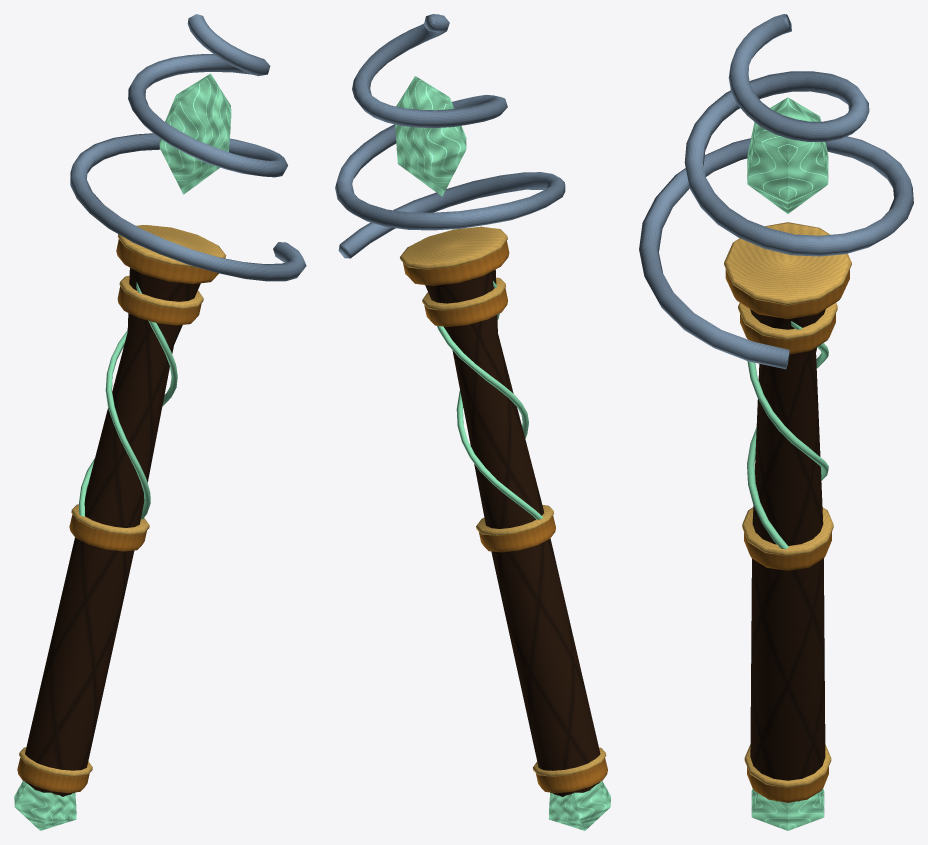
Rendered from tornado_rod.glb.
The picture shows the model from 3 angles, left to right: view 1: azimuth 30°, elevation 25°; view 2: azimuth 150°, elevation 25°; view 3: azimuth 270°, elevation 25°; orthographic projection. The views are drawn at different scales.
Parts seen in each view (by area): view 1: Leather wrapped grip, Open rising cyclone crown, Engraved metal collar (×4), Wind heart, Polished collar edge (×4), Spiral elemental shaft inlay (×2), Inset elemental pommel; view 2: Leather wrapped grip, Open rising cyclone crown, Engraved metal collar (×4), Polished collar edge (×4), Wind heart, Spiral elemental shaft inlay (×2), Inset elemental pommel; view 3: Leather wrapped grip, Open rising cyclone crown, Polished collar edge (×4), Wind heart, Engraved metal collar (×4), Spiral elemental shaft inlay (×2), Inset elemental pommel.
Boxes of the visible parts, <box> form: Leather wrapped grip: <box>25,268,200,796</box>; Open rising cyclone crown: <box>70,14,306,281</box>; Engraved metal collar (×4): <box>17,239,218,793</box>; Wind heart: <box>159,73,231,194</box>; Polished collar edge (×4): <box>19,225,226,776</box>; Spiral elemental shaft inlay (×2): <box>79,282,177,519</box>; Inset elemental pommel: <box>14,781,76,830</box>; Leather wrapped grip: <box>425,269,600,796</box>; Open rising cyclone crown: <box>335,14,565,258</box>; Engraved metal collar (×4): <box>403,241,607,793</box>; Polished collar edge (×4): <box>400,226,606,776</box>; Wind heart: <box>395,76,466,196</box>; Spiral elemental shaft inlay (×2): <box>437,281,543,519</box>; Inset elemental pommel: <box>548,781,610,830</box>; Leather wrapped grip: <box>750,309,825,801</box>; Open rising cyclone crown: <box>639,14,913,369</box>; Polished collar edge (×4): <box>724,222,851,787</box>; Wind heart: <box>747,97,828,213</box>; Engraved metal collar (×4): <box>725,269,849,802</box>; Spiral elemental shaft inlay (×2): <box>747,321,828,549</box>; Inset elemental pommel: <box>751,788,824,830</box>.
Bounding box in the file's own units: 25.22 × 68.77 × 19.05.
6 materials, 6 textured.
